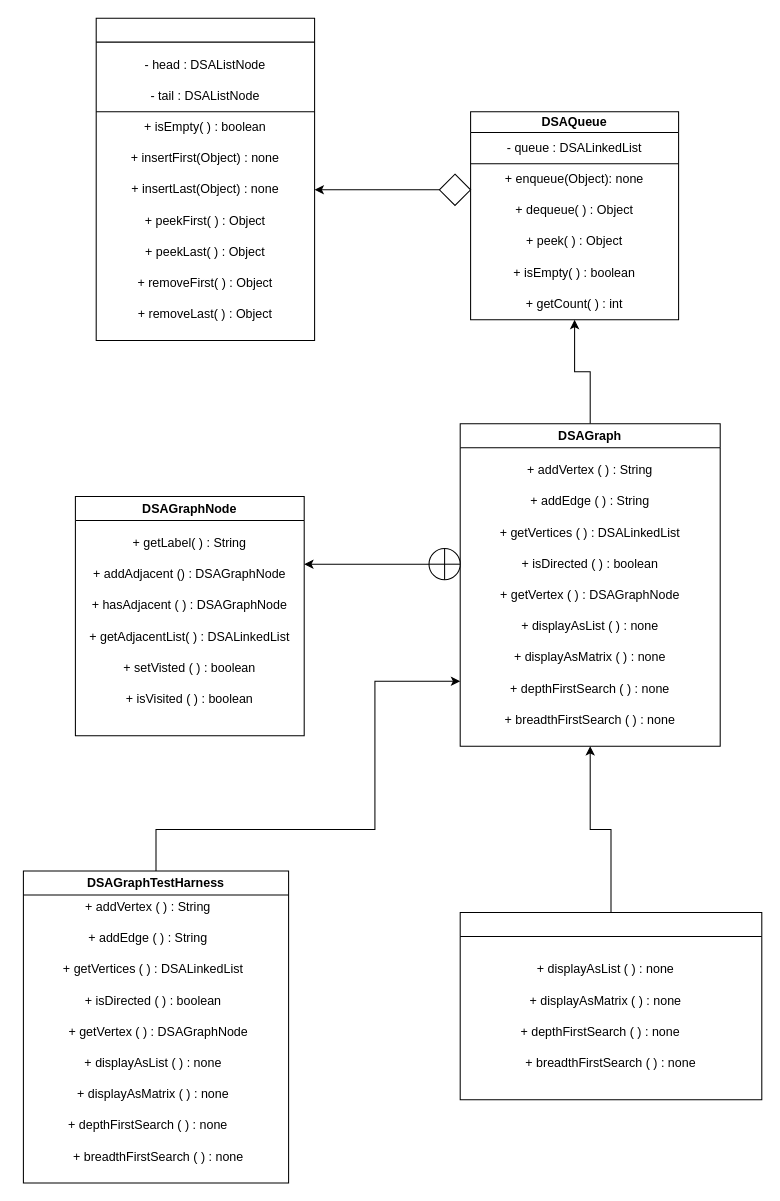
Image size: 780x1201. Some labels were removed from this diagram. The shapes that lost their labels are listed below. From the top down, each one's box as (x1, y1, x2, y2) in pixels, then its label:
(95, 17, 315, 341): DSALinkedList
(459, 912, 762, 1100): GraphReader
